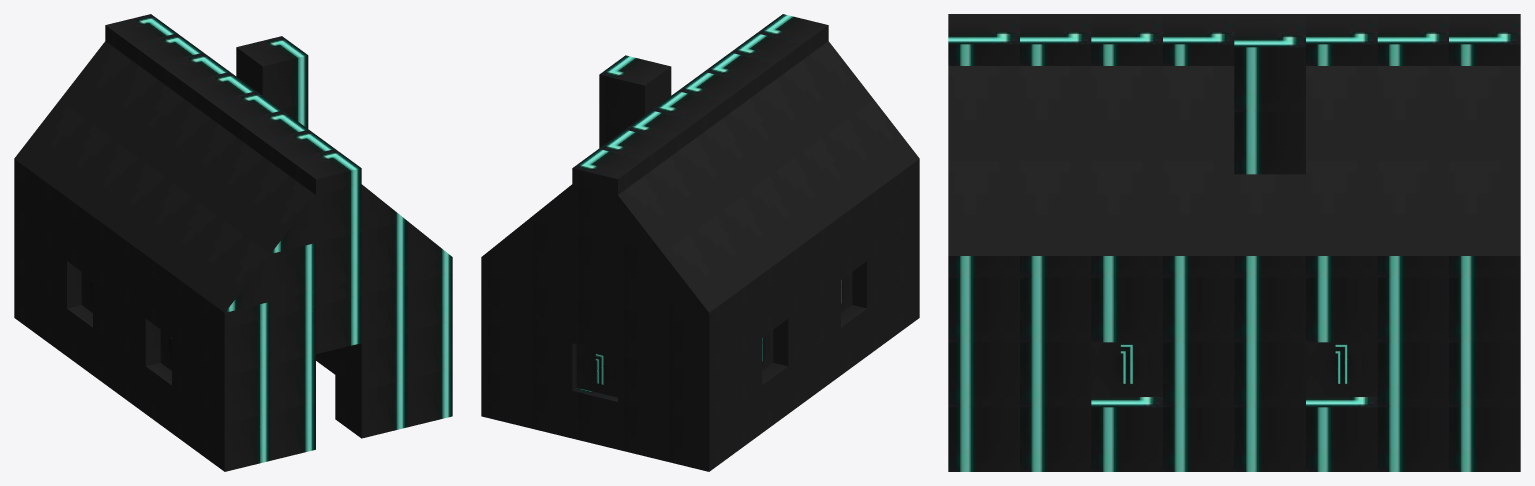
Rendered from House.FBX.
3 renders of one model, left to right at view 1: azimuth 30°, elevation 25°; view 2: azimuth 150°, elevation 25°; view 3: azimuth 270°, elevation 25°, orthographic. The views are drawn at different scales.
Visible parts, largest first — view 1: Wall, Tiles, Bois, Roof, Windows; view 2: Wall, Tiles, Bois, Roof, Windows; view 3: Wall, Tiles, Bois, Windows.
Part boxes in pixels (<box>): Wall: <box>14,36,452,471</box>; Tiles: <box>14,41,315,312</box>; Bois: <box>14,14,452,328</box>; Roof: <box>225,184,452,312</box>; Windows: <box>81,272,171,370</box>; Wall: <box>481,55,919,471</box>; Tiles: <box>618,41,919,312</box>; Bois: <box>481,14,919,328</box>; Roof: <box>481,184,708,312</box>; Windows: <box>576,272,852,397</box>; Wall: <box>948,17,1520,471</box>; Tiles: <box>948,66,1520,255</box>; Bois: <box>948,14,1520,277</box>; Windows: <box>1091,342,1377,396</box>.
Size of the model in its own units: 500 by 615 by 800.
